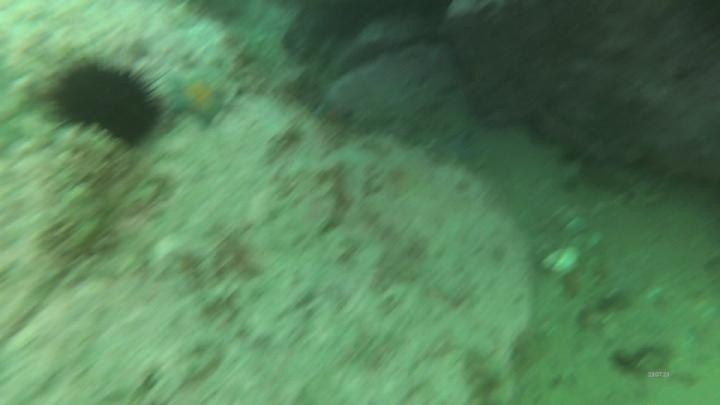echinus: (41, 55, 166, 154)
starfish: (165, 68, 233, 132)
